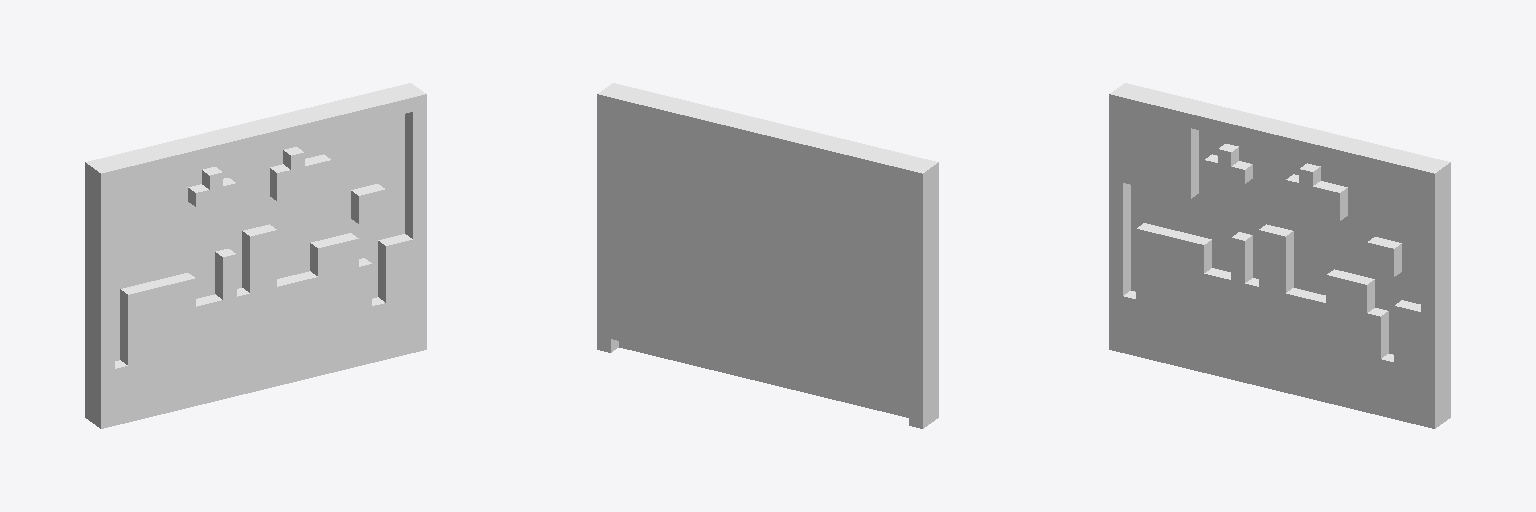
File: painting1.obj
3 views of the same model, side by side, from view 1: azimuth 30°, elevation 25°; view 2: azimuth 150°, elevation 25°; view 3: azimuth 330°, elevation 25° (orthographic).
Visible parts, largest first — view 1: painting1; view 2: painting1; view 3: painting1.
Part boxes in pixels (x1,y1,x2,y2): painting1: (85,83,426,428); painting1: (597,83,938,428); painting1: (1109,83,1450,428).
Bounding box in the file's own units: 24 × 18 × 2.